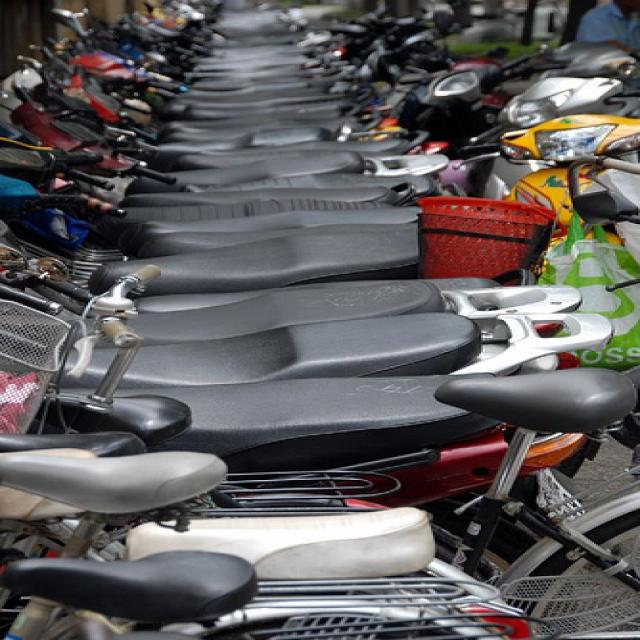motor: (0, 0, 638, 614), (104, 379, 491, 541), (0, 81, 448, 203), (48, 309, 613, 392), (0, 282, 580, 360), (4, 226, 420, 321), (5, 138, 448, 222), (2, 194, 422, 276), (47, 75, 404, 154), (57, 114, 455, 171), (84, 82, 380, 139), (128, 85, 377, 123), (174, 75, 358, 102)
